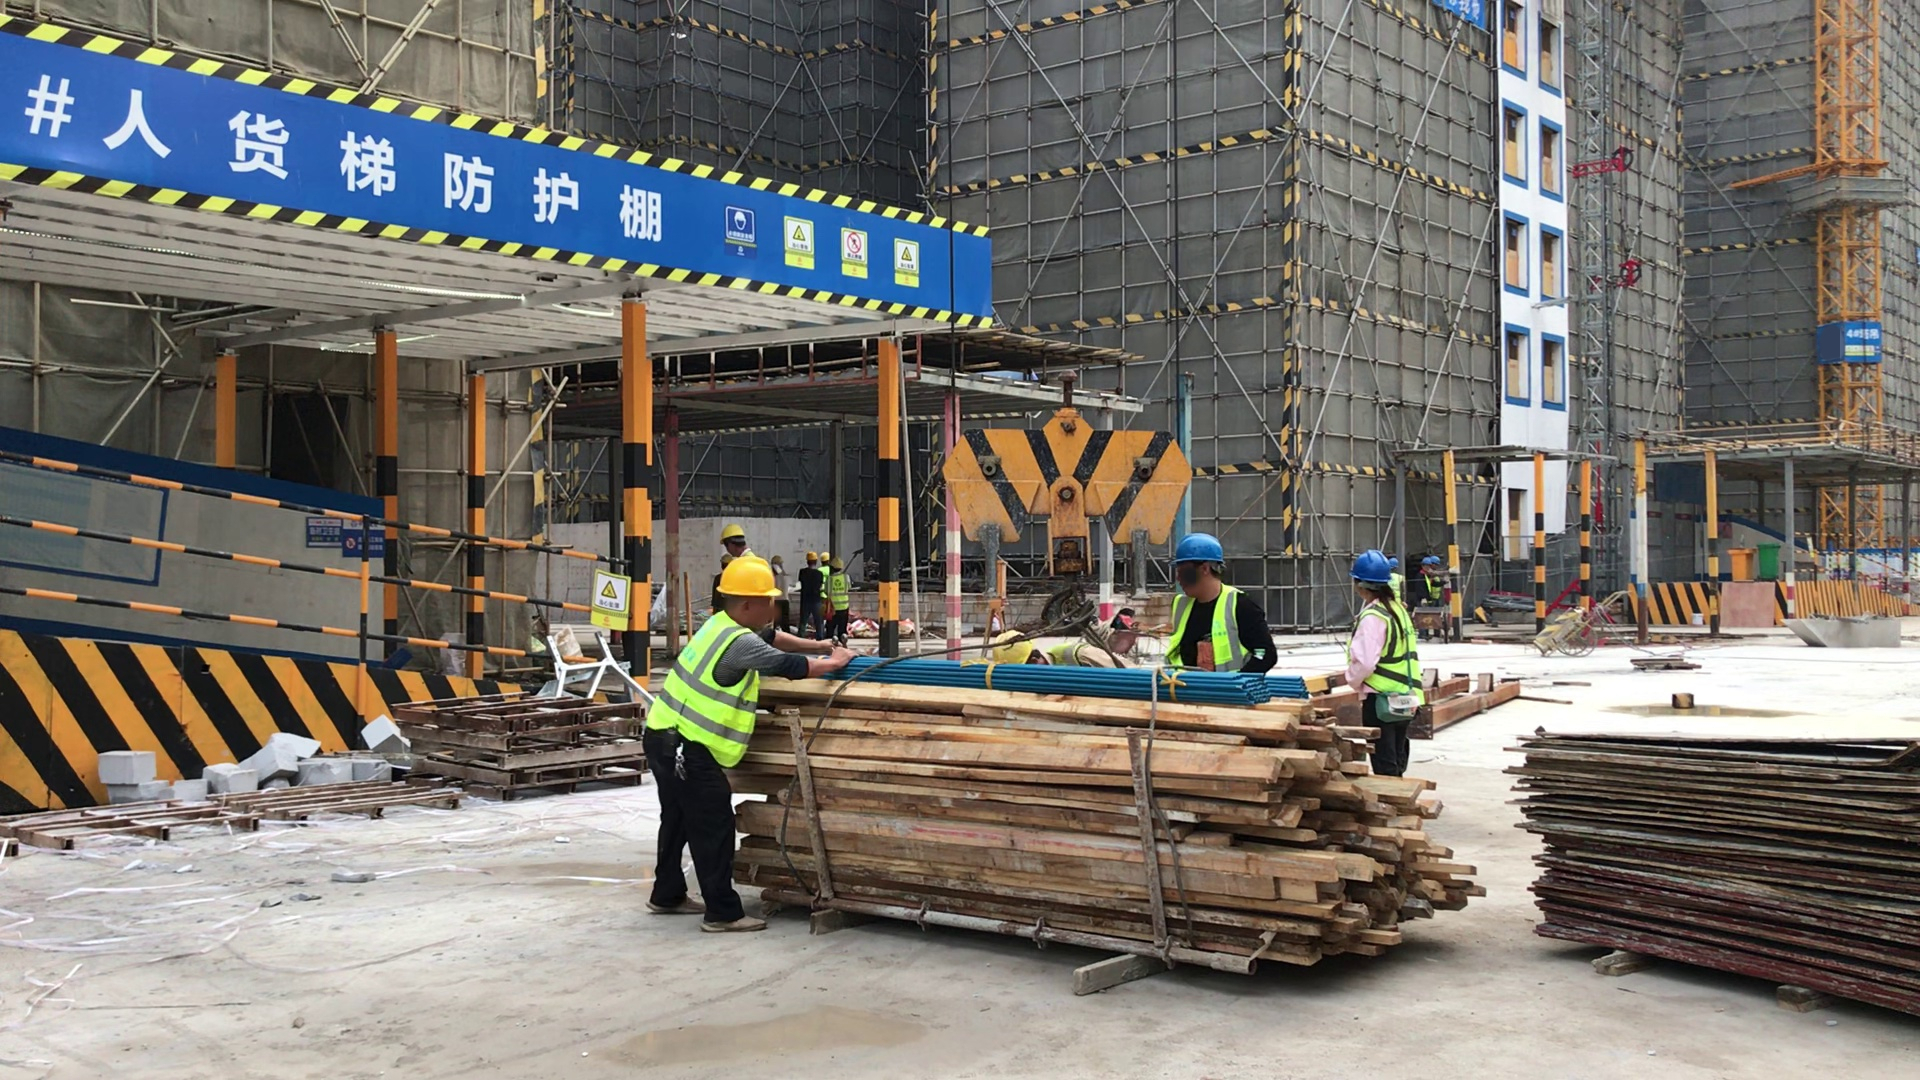board: (1515, 714, 1920, 1021)
handcart: (1533, 583, 1631, 659), (1084, 606, 1160, 655), (1413, 600, 1452, 647)
helmet: (717, 556, 783, 602), (1178, 532, 1225, 567), (990, 630, 1036, 666), (1349, 549, 1391, 583), (715, 520, 749, 547), (831, 556, 845, 572), (802, 550, 817, 562), (1421, 555, 1433, 568), (1431, 552, 1439, 566), (820, 549, 828, 560)
hook: (952, 381, 1181, 568)
hopper: (1782, 608, 1906, 657)
person: (640, 555, 781, 934), (1344, 547, 1433, 776), (1164, 531, 1282, 680), (796, 549, 828, 642), (827, 556, 854, 647)
slogan: (722, 200, 929, 299), (1828, 316, 1892, 371), (592, 570, 638, 635)
vest: (652, 615, 758, 763), (1168, 590, 1249, 671), (1360, 600, 1422, 694), (829, 572, 852, 616), (1426, 576, 1442, 599)
wood: (749, 672, 1455, 969)
